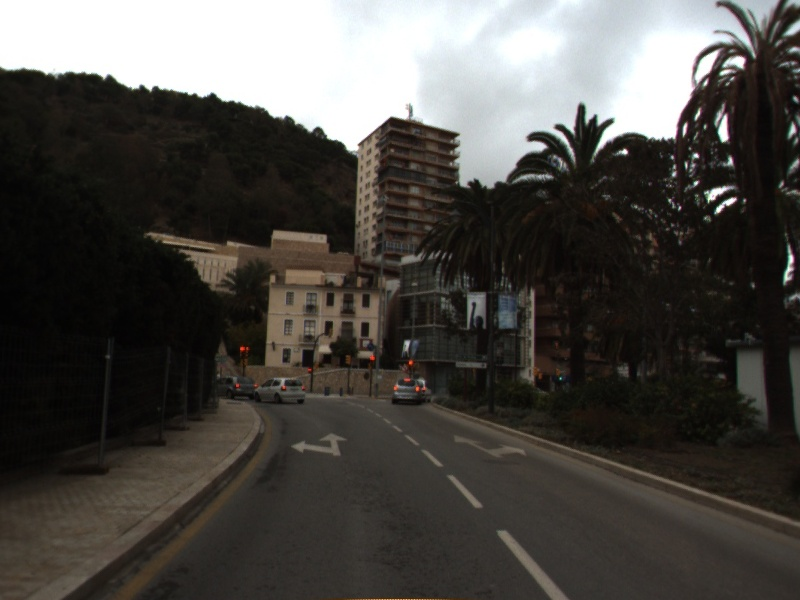STRAIGHT_LEFT: (289, 431, 349, 457)
STRAIGHT_RIGHT: (452, 433, 528, 459)
